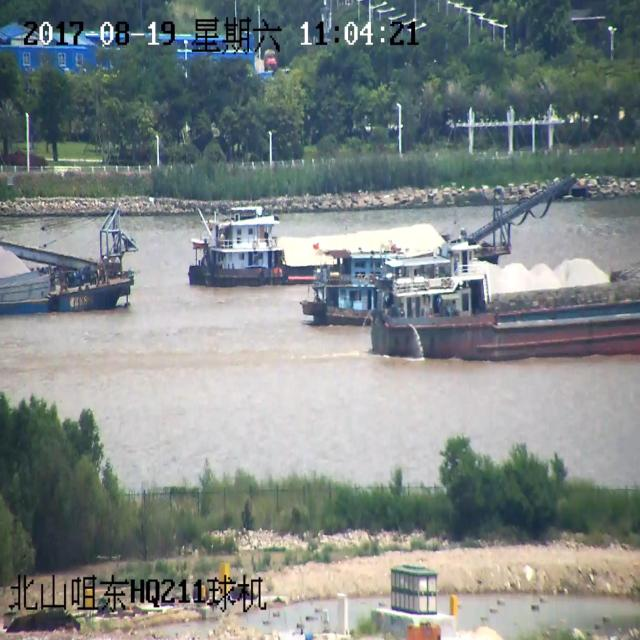cargoship: (375, 255, 640, 362), (185, 192, 443, 269), (0, 205, 143, 319), (306, 246, 431, 316)
